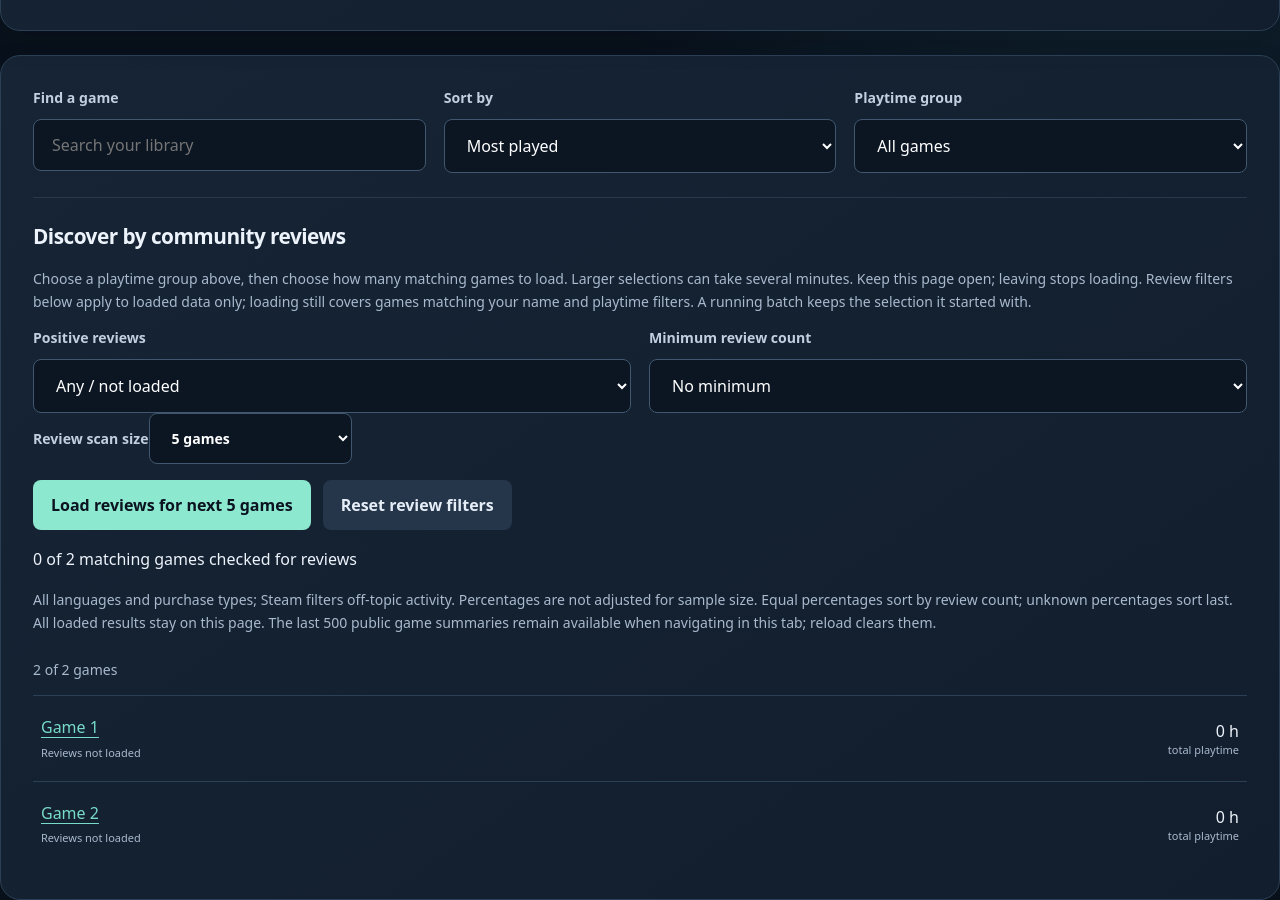
Test: Library review discovery › stops on rate limits, retries unfinished games and cancels queued work when leaving
(page scrolled)
Click the button "Load reviews for next 5 games".
click(172, 504)  # box [33,480,311,530]
Wait 10000 ms
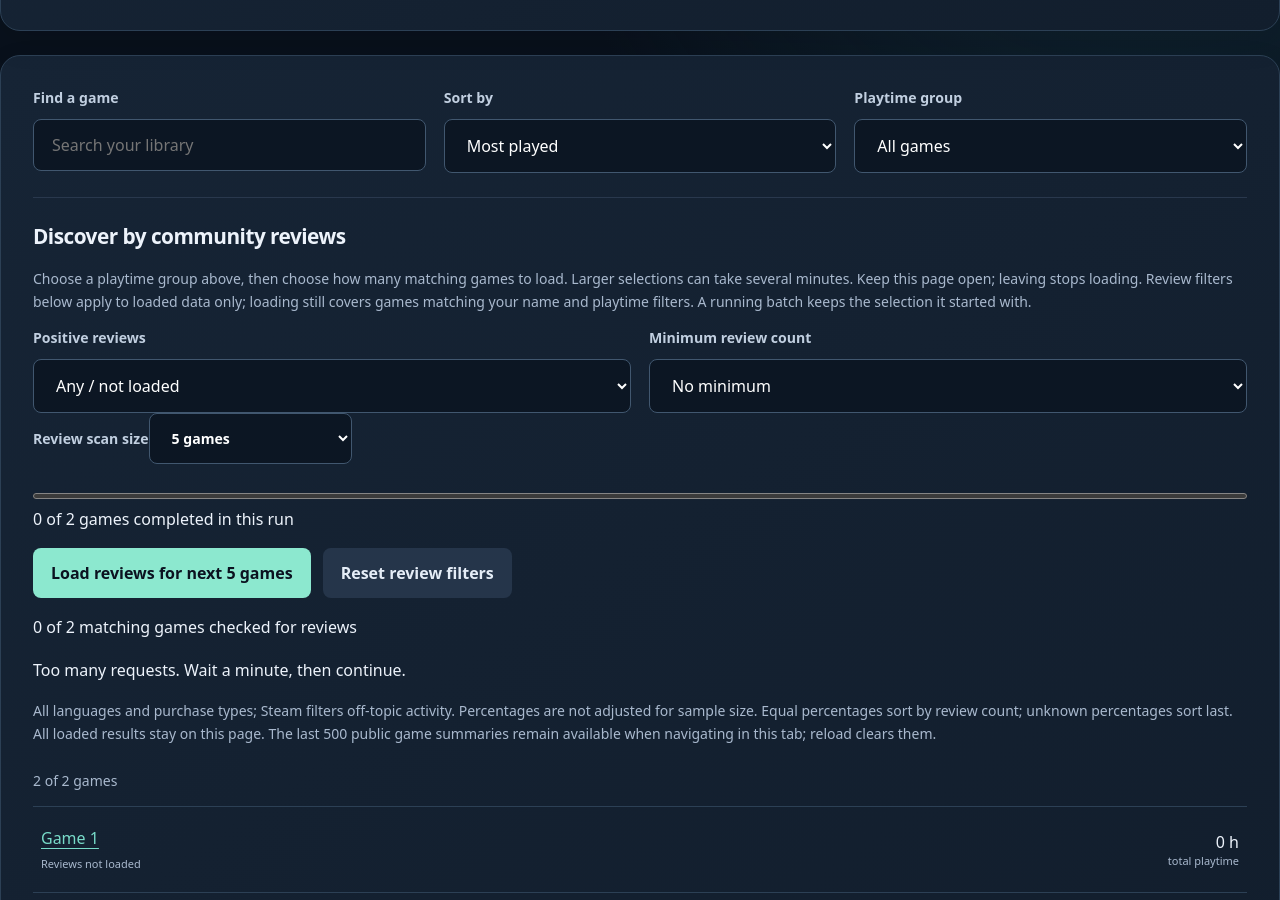
Expected: the text "0 of 2 matching games checked for reviews" is shown, [33,616,357,638]
Expected: the text "Too many requests. Wait a minute, then continue." is shown, [33,659,406,681]
Click the button "Load reviews for next 5 games".
click(172, 573)  # box [33,548,311,598]
Wait 2500 ms
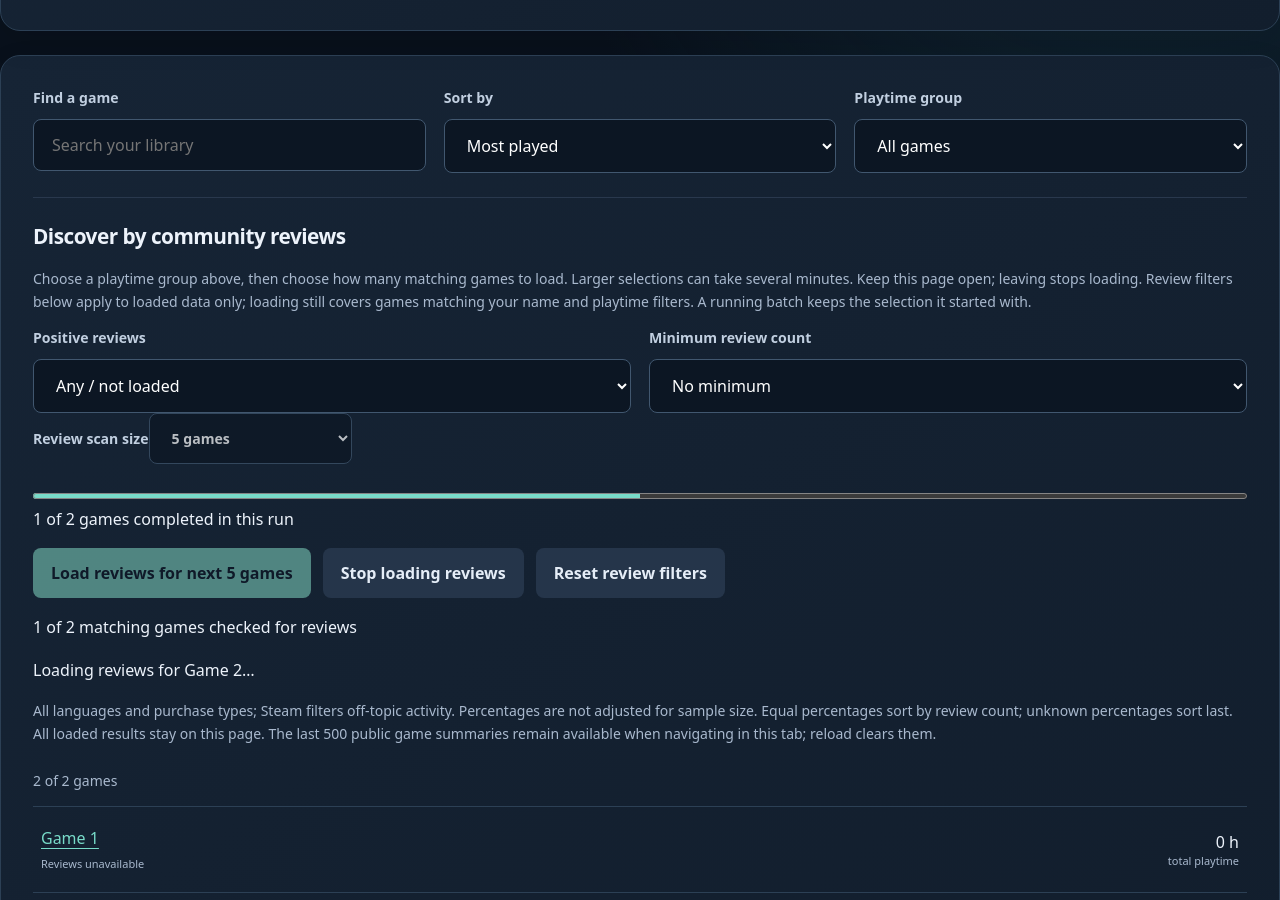
Expected: the text "1 of 2 matching games checked for reviews" is shown, [33,616,357,638]
Expected: the text "Reviews unavailable" is shown, [41,856,144,872]
